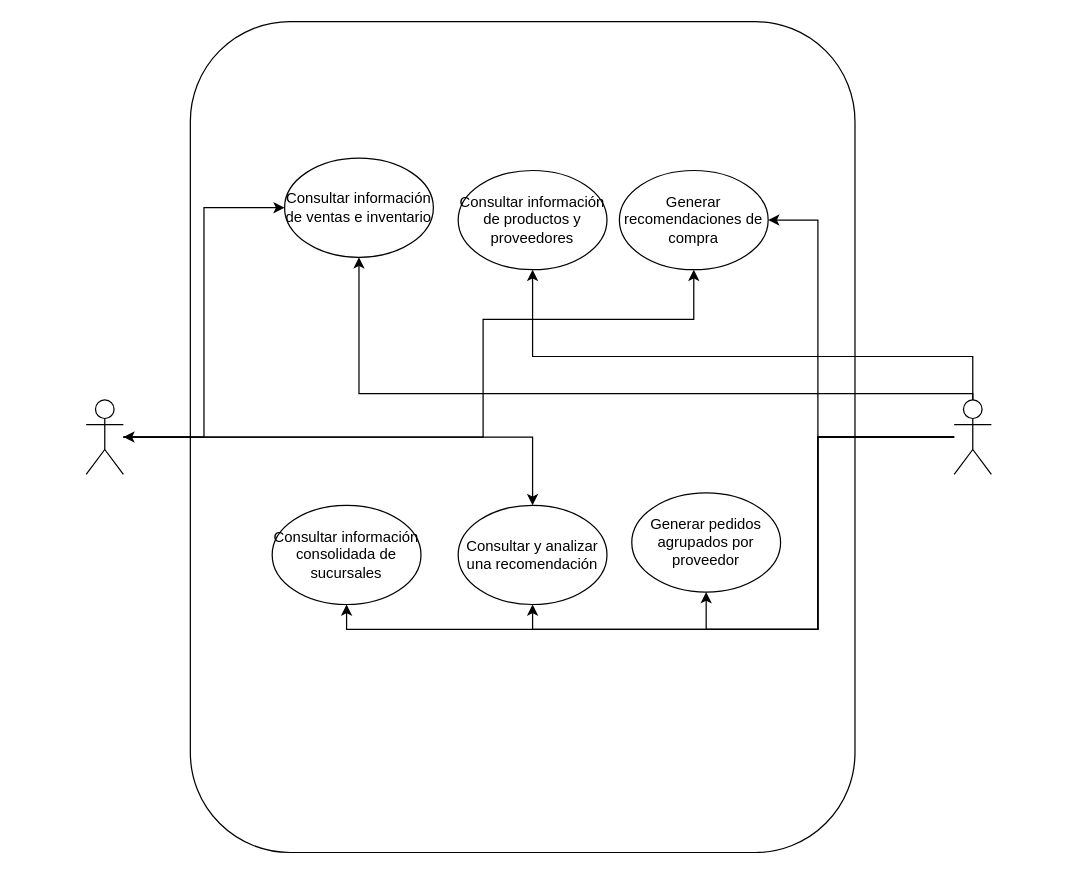
The diagram is 1068 pixels wide and 874 high, and some of its shapes have lost their labels. Each missing label, with the centre of its shape:
"Reponsable de compras de la cadena" belongs at point (972, 436).
"Responsable de sucursal" belongs at point (104, 436).
